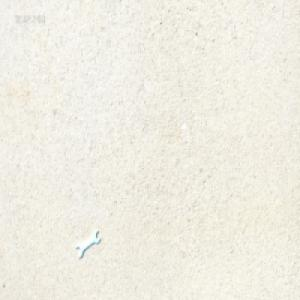Wrench: (76, 230, 101, 258)
